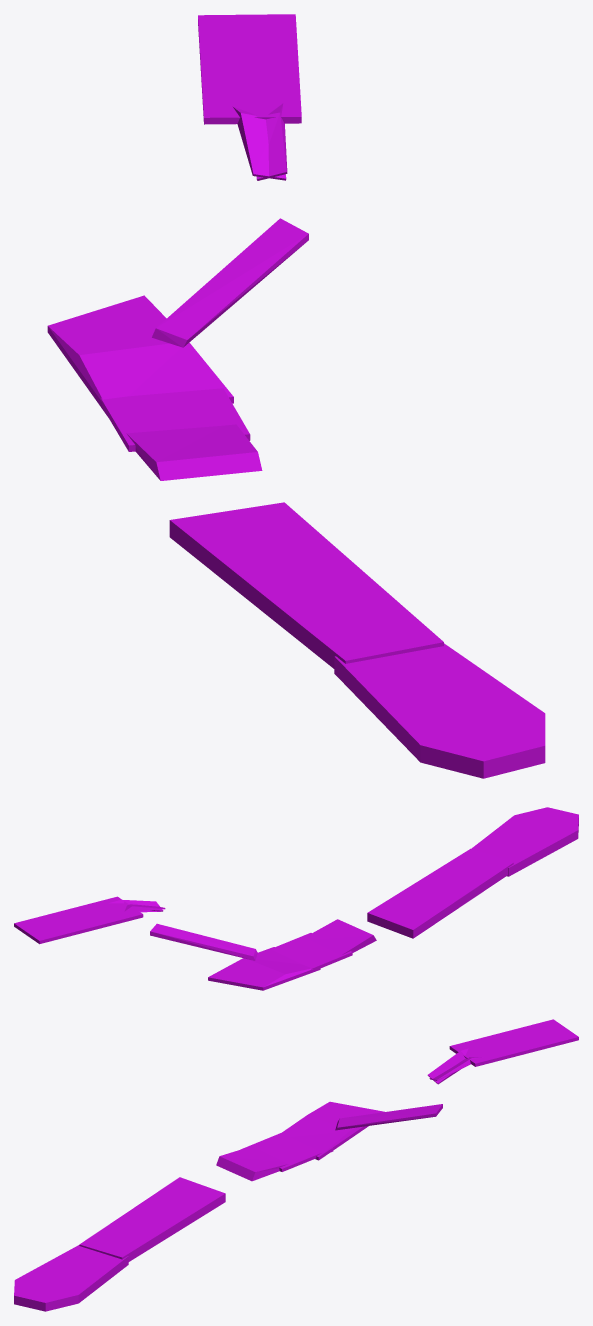
Rendered from hole-five-floor-v5.glb.
3 views of the same model, one above another, from view 1: azimuth 30°, elevation 25°; view 2: azimuth 150°, elevation 25°; view 3: azimuth 330°, elevation 25° (orthographic). The views are drawn at different scales.
Visible parts, largest first — view 1: hole 5 green.003, hole 5 green.002, hole 5 floor.007, hole 5 floor, hole 5 floor.008, hole 5 floor.004, hole 5 floor.003, hole 5 floor.001, hole 5 floor.002; view 2: hole 5 green.003, hole 5 green.002, hole 5 floor, hole 5 floor.007, hole 5 floor.004, hole 5 floor.008, hole 5 floor.003, hole 5 floor.002; view 3: hole 5 green.003, hole 5 green.002, hole 5 floor, hole 5 floor.007, hole 5 floor.004, hole 5 floor.003, hole 5 floor.008, hole 5 floor.001.
Boxes of the visible parts, bbox=[...] form: hole 5 green.003: bbox=[169, 502, 443, 668]; hole 5 green.002: bbox=[334, 643, 545, 778]; hole 5 floor.007: bbox=[47, 295, 233, 417]; hole 5 floor: bbox=[198, 14, 301, 124]; hole 5 floor.008: bbox=[152, 218, 308, 347]; hole 5 floor.004: bbox=[126, 424, 262, 480]; hole 5 floor.003: bbox=[100, 388, 250, 451]; hole 5 floor.001: bbox=[233, 106, 286, 180]; hole 5 floor.002: bbox=[256, 103, 287, 180]; hole 5 green.003: bbox=[367, 848, 513, 938]; hole 5 green.002: bbox=[471, 807, 578, 876]; hole 5 floor: bbox=[14, 896, 143, 944]; hole 5 floor.007: bbox=[208, 947, 320, 990]; hole 5 floor.004: bbox=[304, 919, 376, 955]; hole 5 floor.008: bbox=[150, 923, 257, 960]; hole 5 floor.003: bbox=[271, 933, 352, 970]; hole 5 floor.002: bbox=[109, 899, 163, 912]; hole 5 green.003: bbox=[79, 1177, 225, 1261]; hole 5 green.002: bbox=[14, 1245, 128, 1311]; hole 5 floor: bbox=[449, 1019, 578, 1066]; hole 5 floor.007: bbox=[281, 1101, 384, 1160]; hole 5 floor.004: bbox=[216, 1146, 287, 1181]; hole 5 floor.003: bbox=[241, 1133, 333, 1171]; hole 5 floor.008: bbox=[335, 1104, 442, 1130]; hole 5 floor.001: bbox=[427, 1048, 468, 1084].
Bounding box in the file's own units: 24.01 × 7.8 × 56.55.
